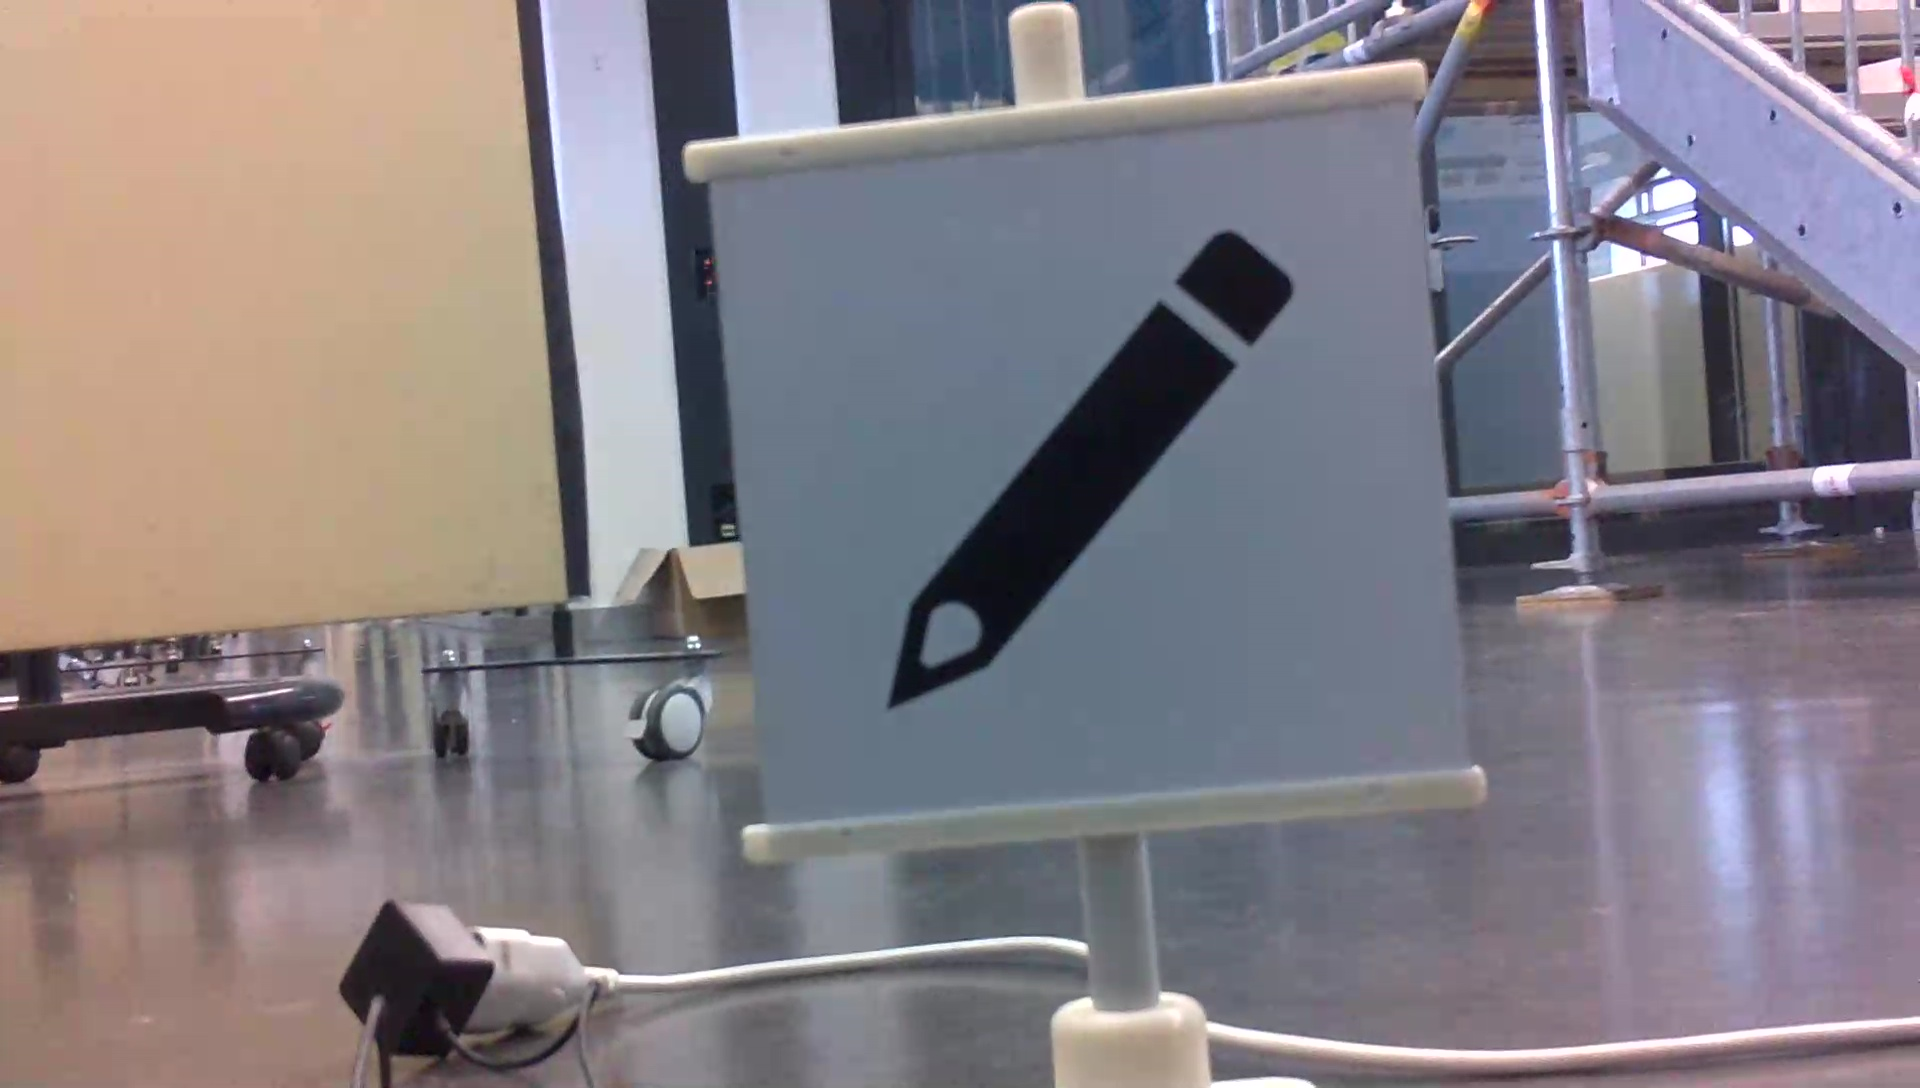pencil: (865, 215, 1304, 719)
